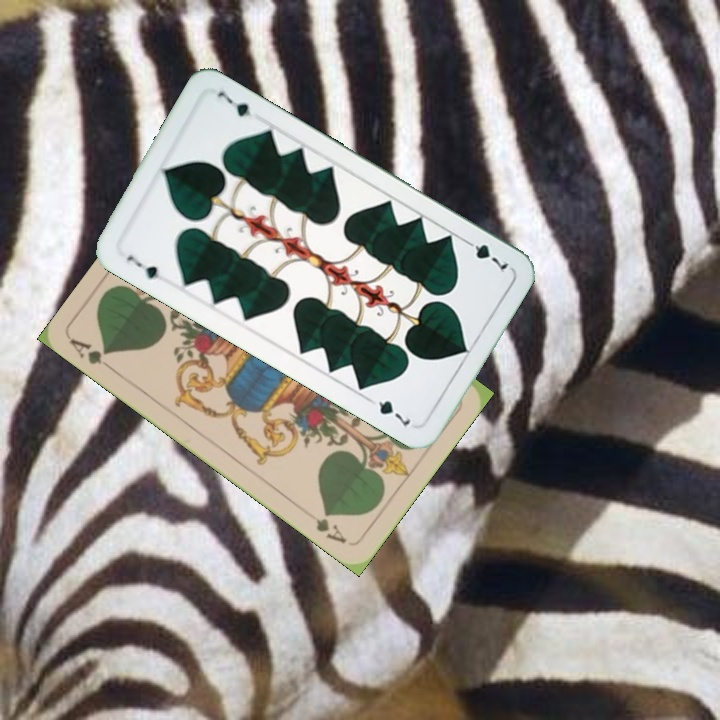G7: (459, 234, 511, 276), (122, 251, 162, 282)
GA: (66, 335, 118, 375)
